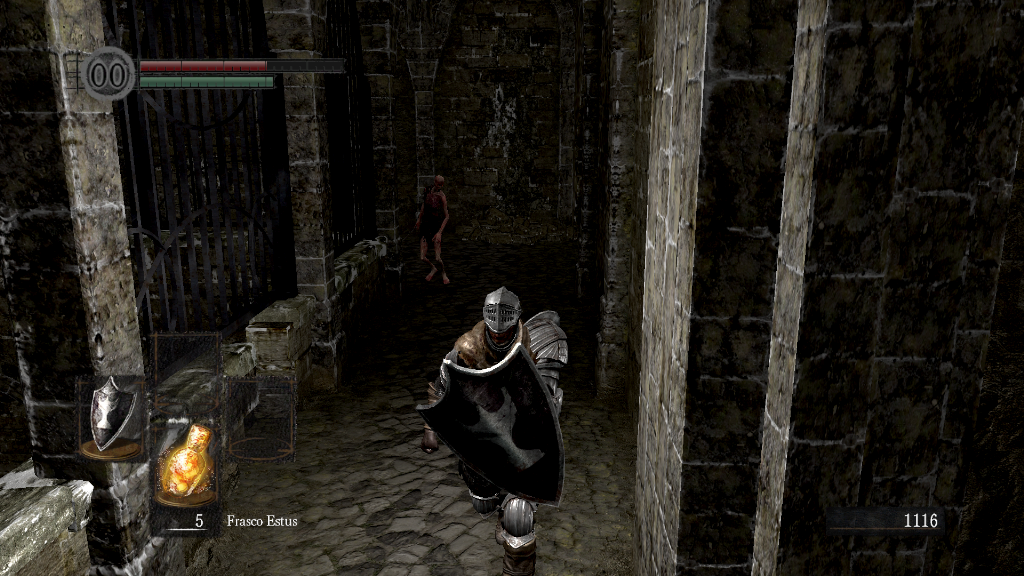health: (138, 58, 343, 71)
hollow: (415, 172, 458, 286)
humanity: (80, 45, 136, 102)
player: (415, 284, 569, 576)
souls: (825, 506, 945, 536)
stamina: (138, 74, 274, 88)
